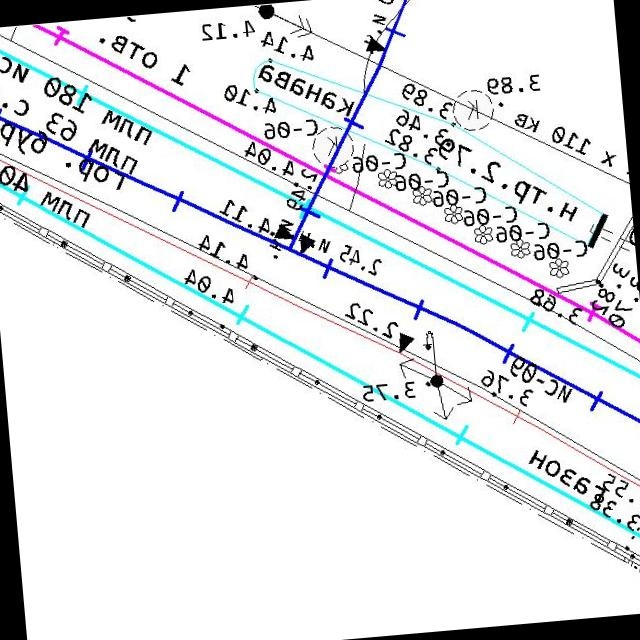bushes: (308, 122, 356, 170), (450, 86, 497, 134), (376, 167, 398, 190), (548, 257, 570, 279), (509, 237, 530, 260), (472, 223, 493, 246), (444, 203, 464, 225), (412, 184, 432, 206)
mark: (396, 330, 416, 354), (364, 34, 386, 54), (298, 232, 316, 255), (272, 222, 294, 240)
